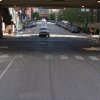crosswalk: (43, 53, 100, 59)
